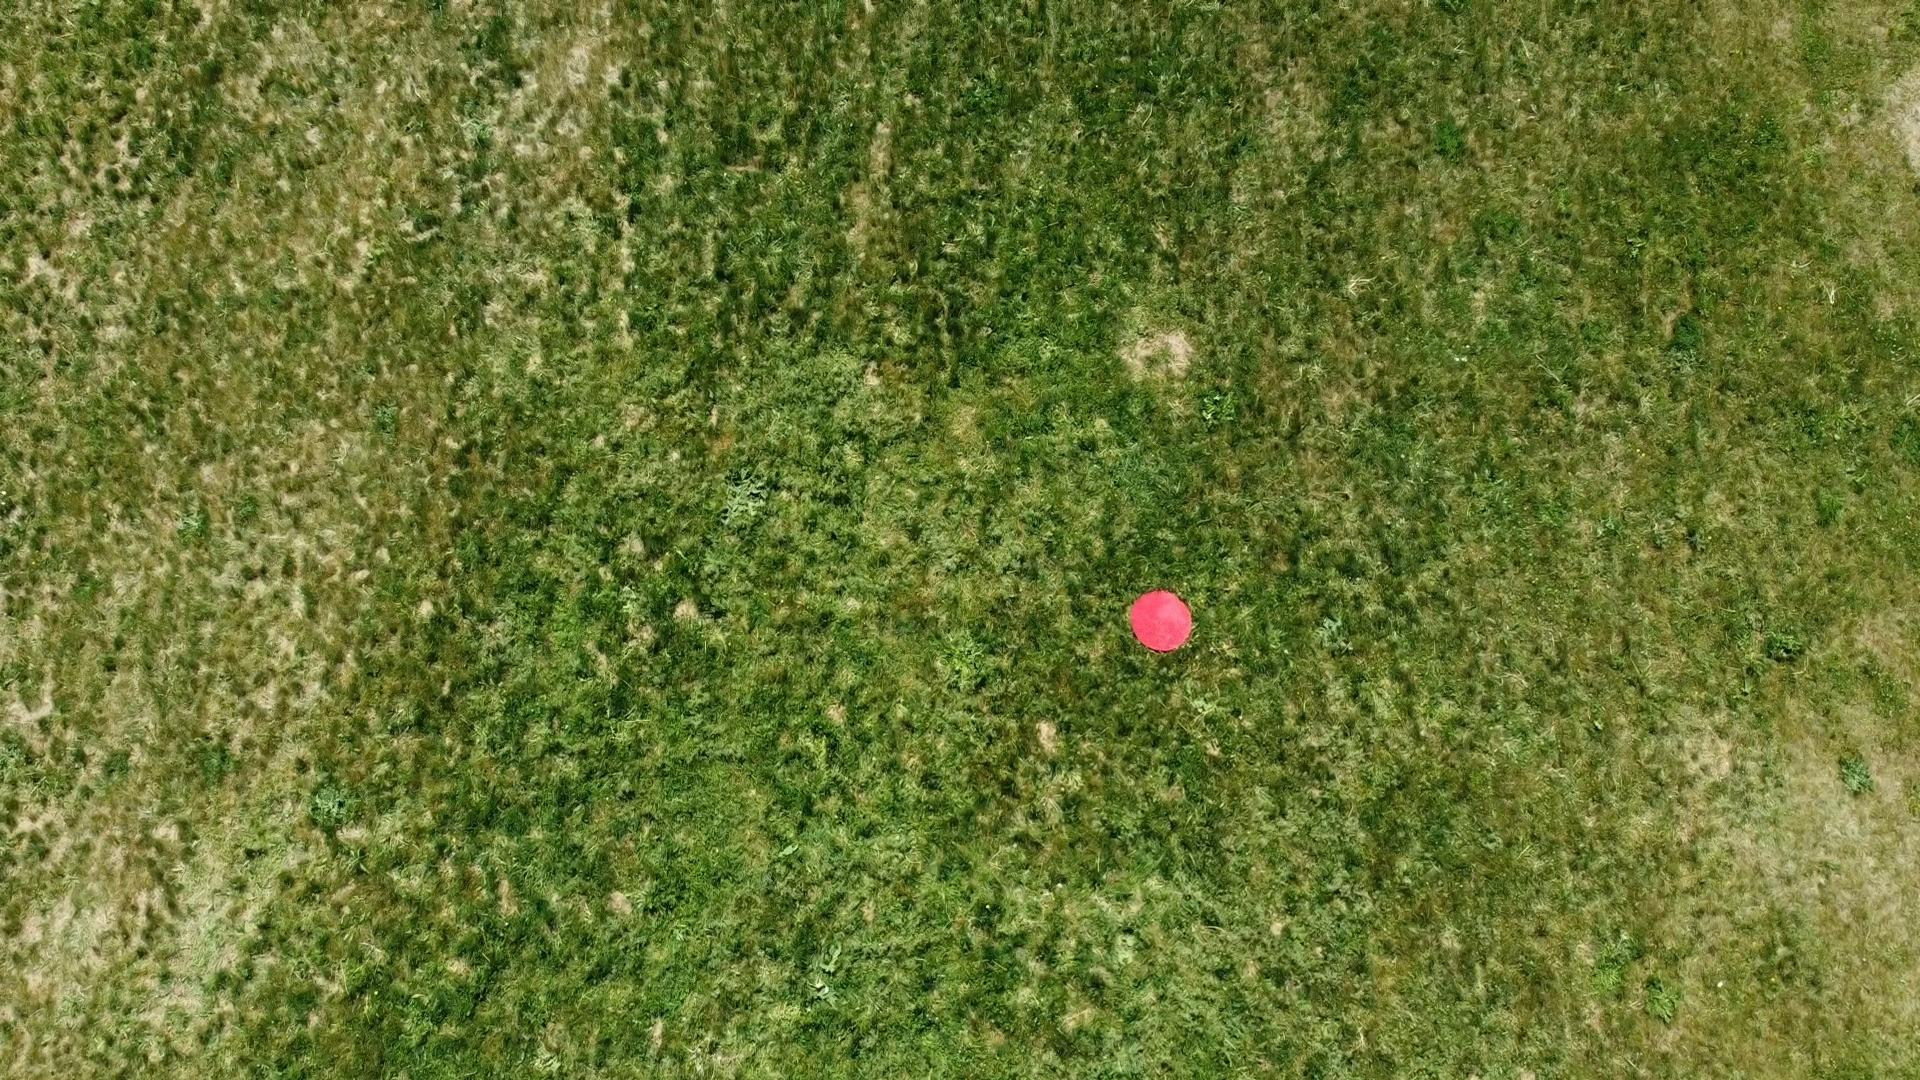Red: (1129, 587, 1196, 654)
